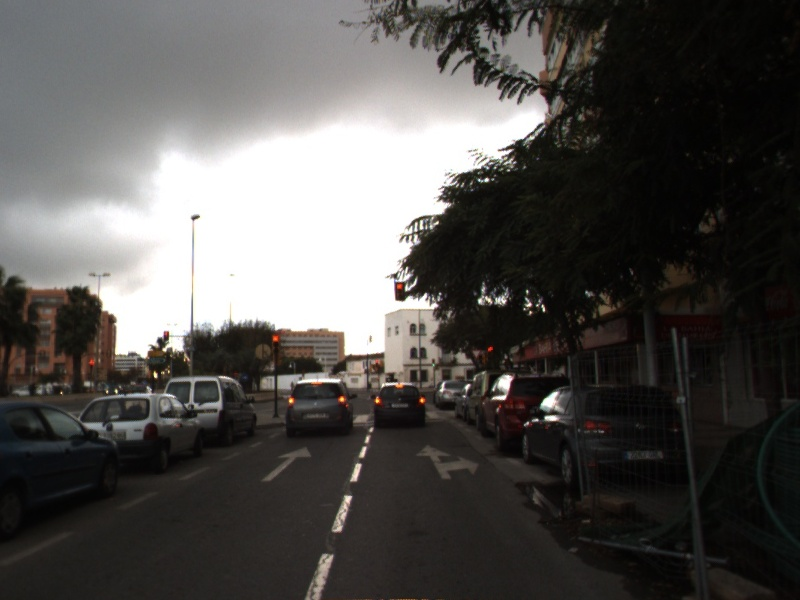STRAIGHT: (260, 445, 313, 483)
STRAIGHT_RIGHT: (414, 443, 481, 480)
